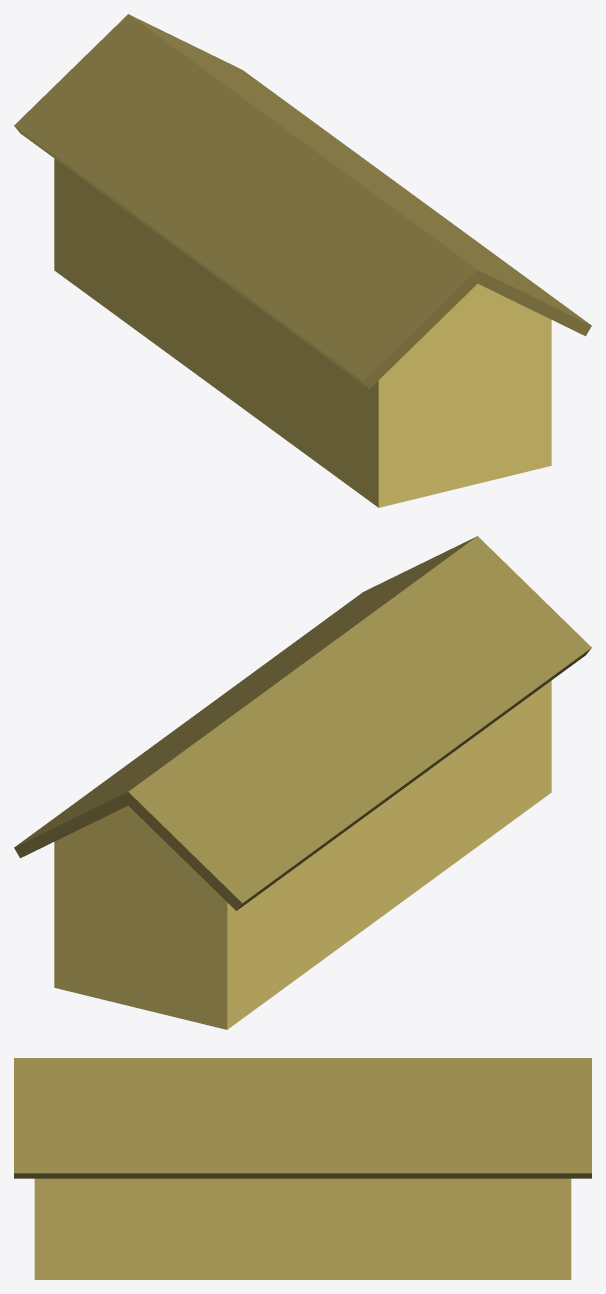
The model's file is result.glb.
The picture shows the model from 3 angles, top to bottom: view 1: azimuth 30°, elevation 25°; view 2: azimuth 150°, elevation 25°; view 3: azimuth 270°, elevation 25°; orthographic projection. The views are drawn at different scales.
Parts seen in each view (by area): view 1: ba8e066e-08a5-48c3-b5d4-d44eca4da46b__undefined (×2), 872f463f-3107-49ae-8e95-a69b7b2f53dc__undefined; view 2: ba8e066e-08a5-48c3-b5d4-d44eca4da46b__undefined (×2), 872f463f-3107-49ae-8e95-a69b7b2f53dc__undefined; view 3: ba8e066e-08a5-48c3-b5d4-d44eca4da46b__undefined, 872f463f-3107-49ae-8e95-a69b7b2f53dc__undefined.
Part boxes in pixels (left/top/right/bottom): ba8e066e-08a5-48c3-b5d4-d44eca4da46b__undefined (×2): left=14, top=14, right=591, bottom=388; 872f463f-3107-49ae-8e95-a69b7b2f53dc__undefined: left=54, top=158, right=551, bottom=507; ba8e066e-08a5-48c3-b5d4-d44eca4da46b__undefined (×2): left=14, top=536, right=591, bottom=910; 872f463f-3107-49ae-8e95-a69b7b2f53dc__undefined: left=54, top=680, right=551, bottom=1029; ba8e066e-08a5-48c3-b5d4-d44eca4da46b__undefined: left=14, top=1058, right=591, bottom=1178; 872f463f-3107-49ae-8e95-a69b7b2f53dc__undefined: left=34, top=1178, right=571, bottom=1279.
Bounding box in the file's own units: 529 × 500 × 1400.
